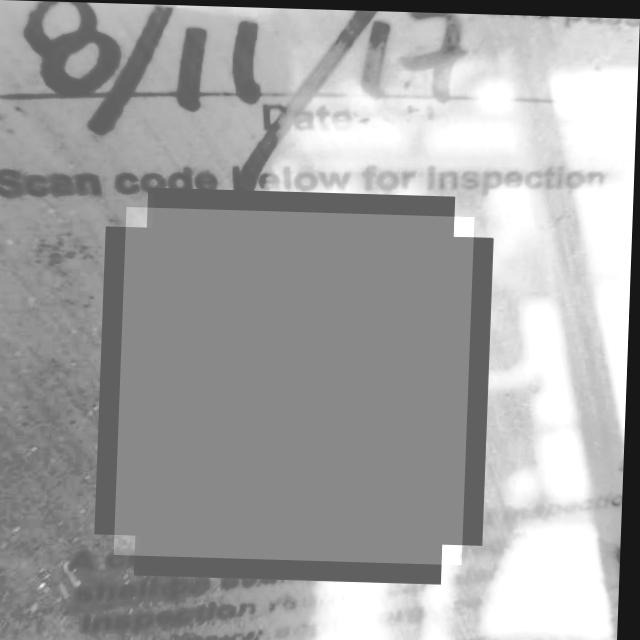qr_code: (118, 206, 476, 562)
